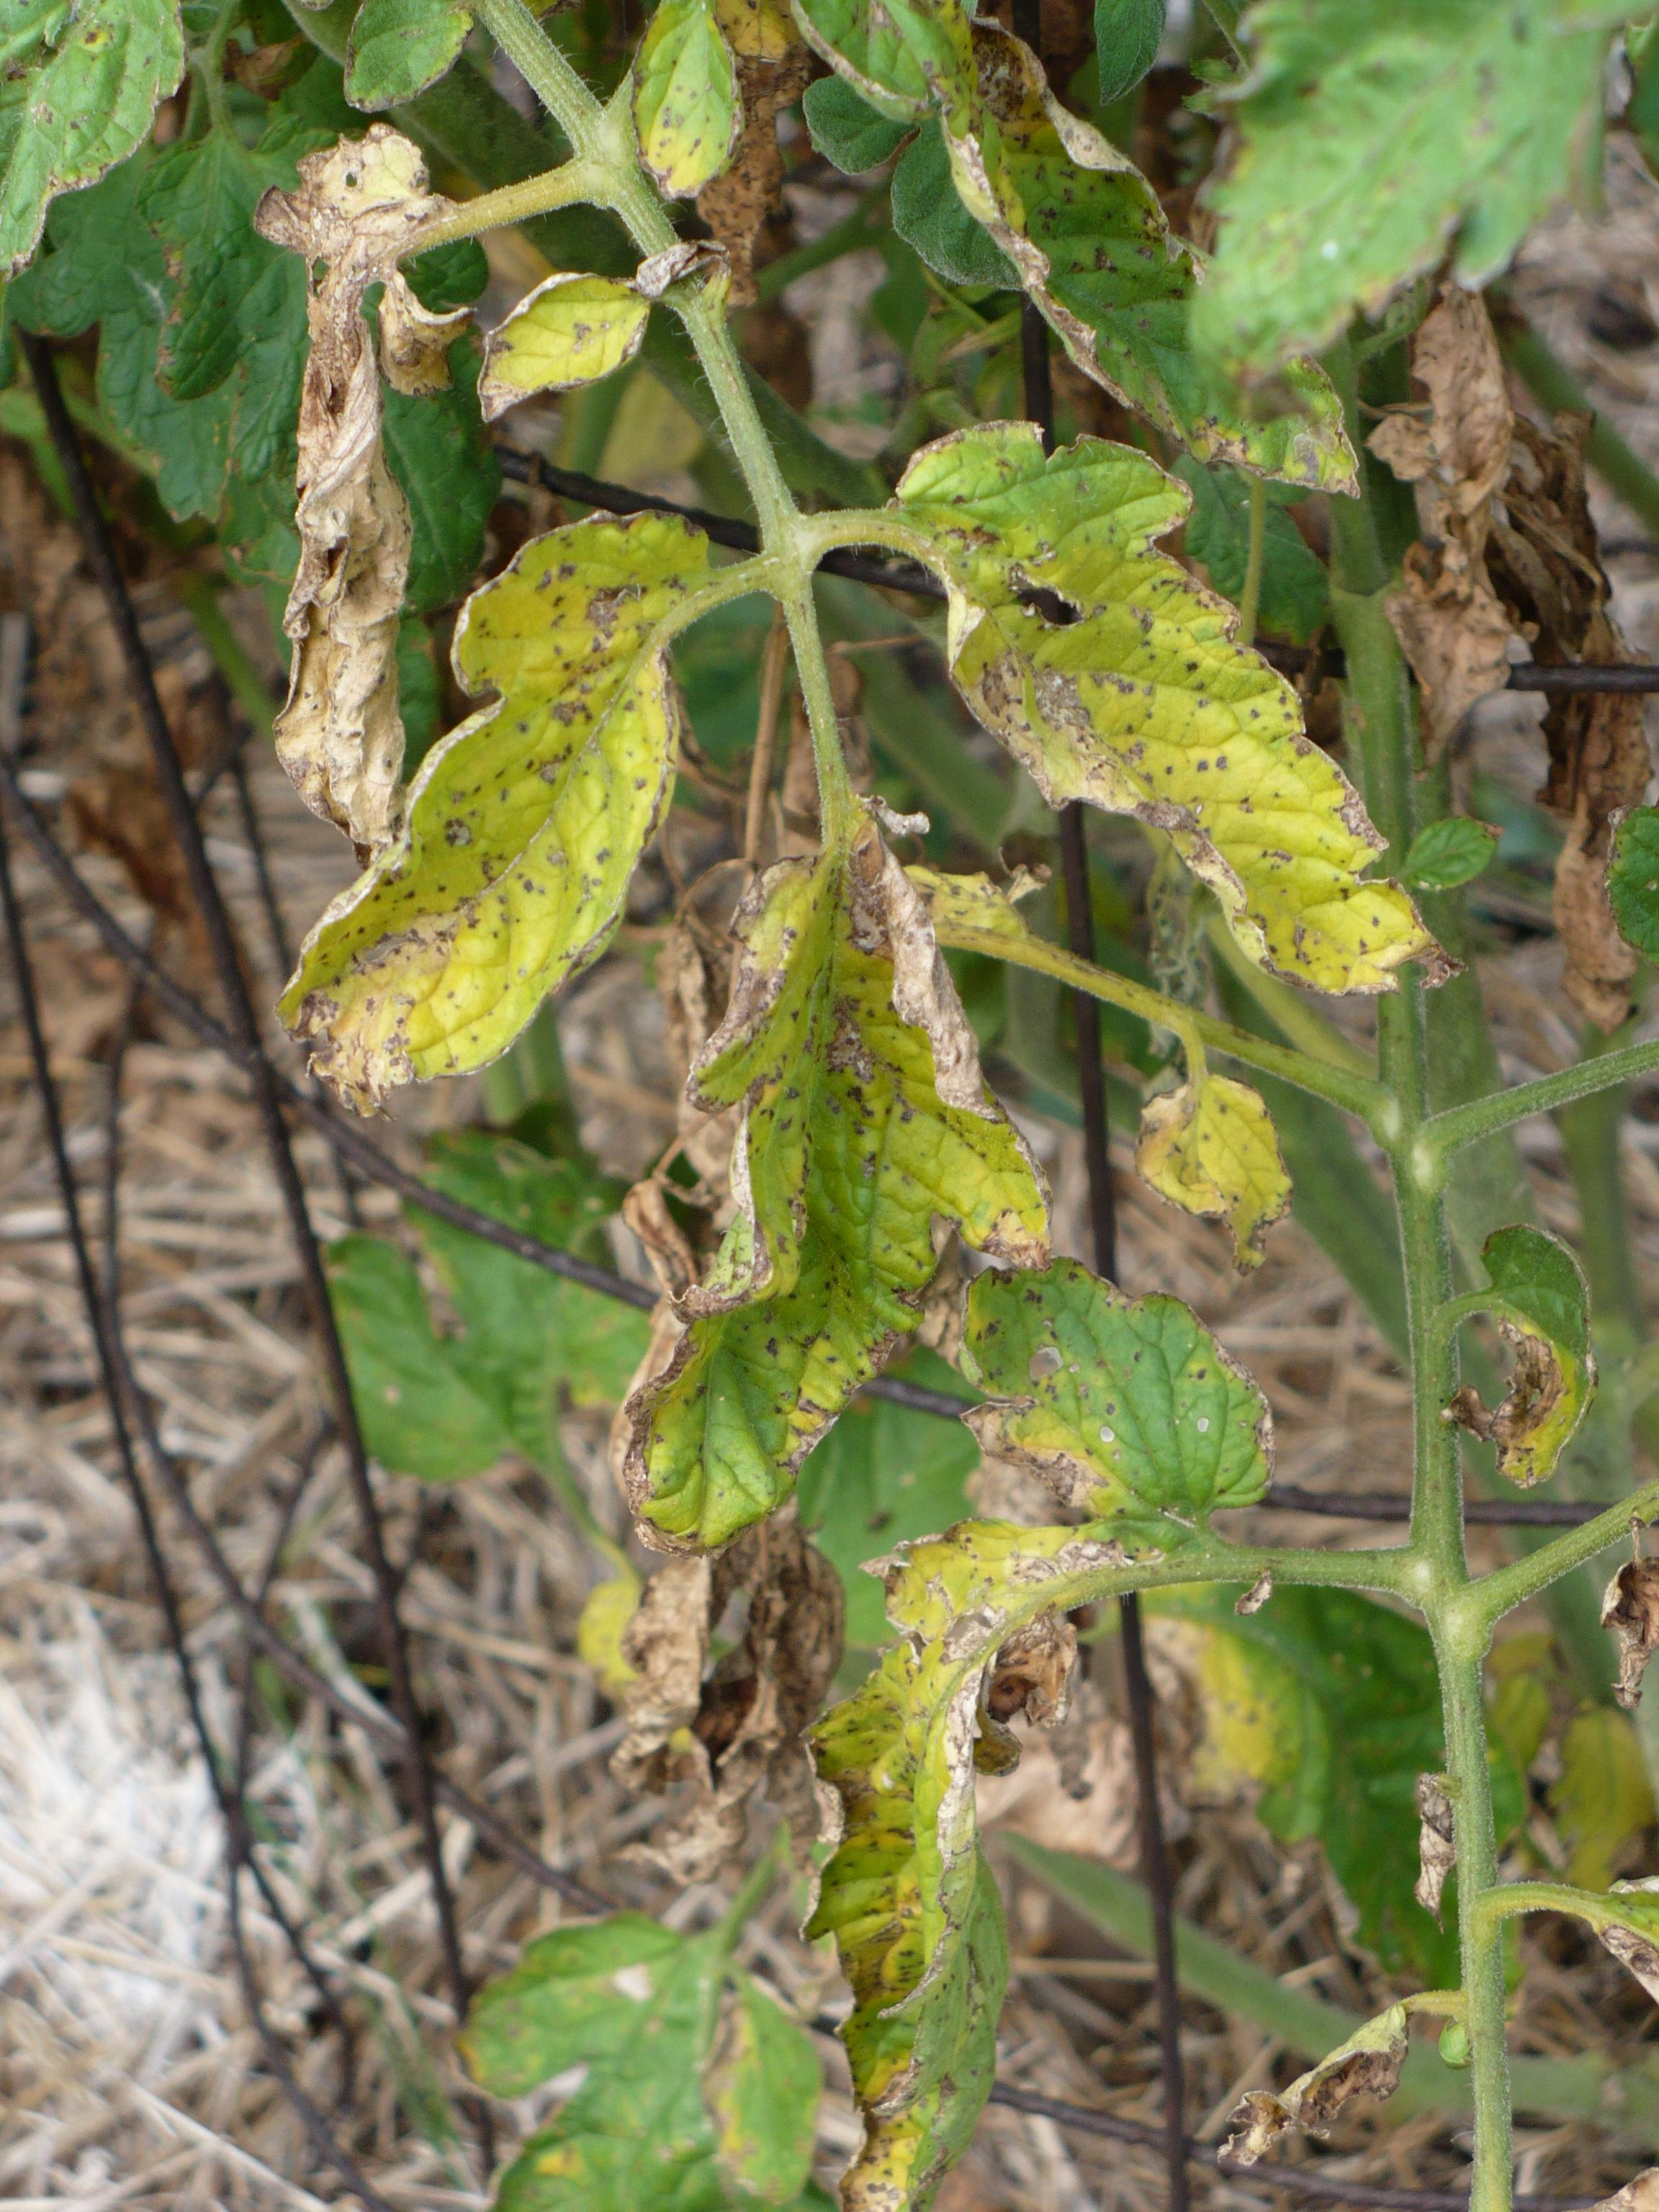Tomato Septoria leaf spot: (795, 1294, 1356, 2195), (850, 408, 1483, 1035), (592, 845, 1065, 1533), (326, 498, 751, 1104)
